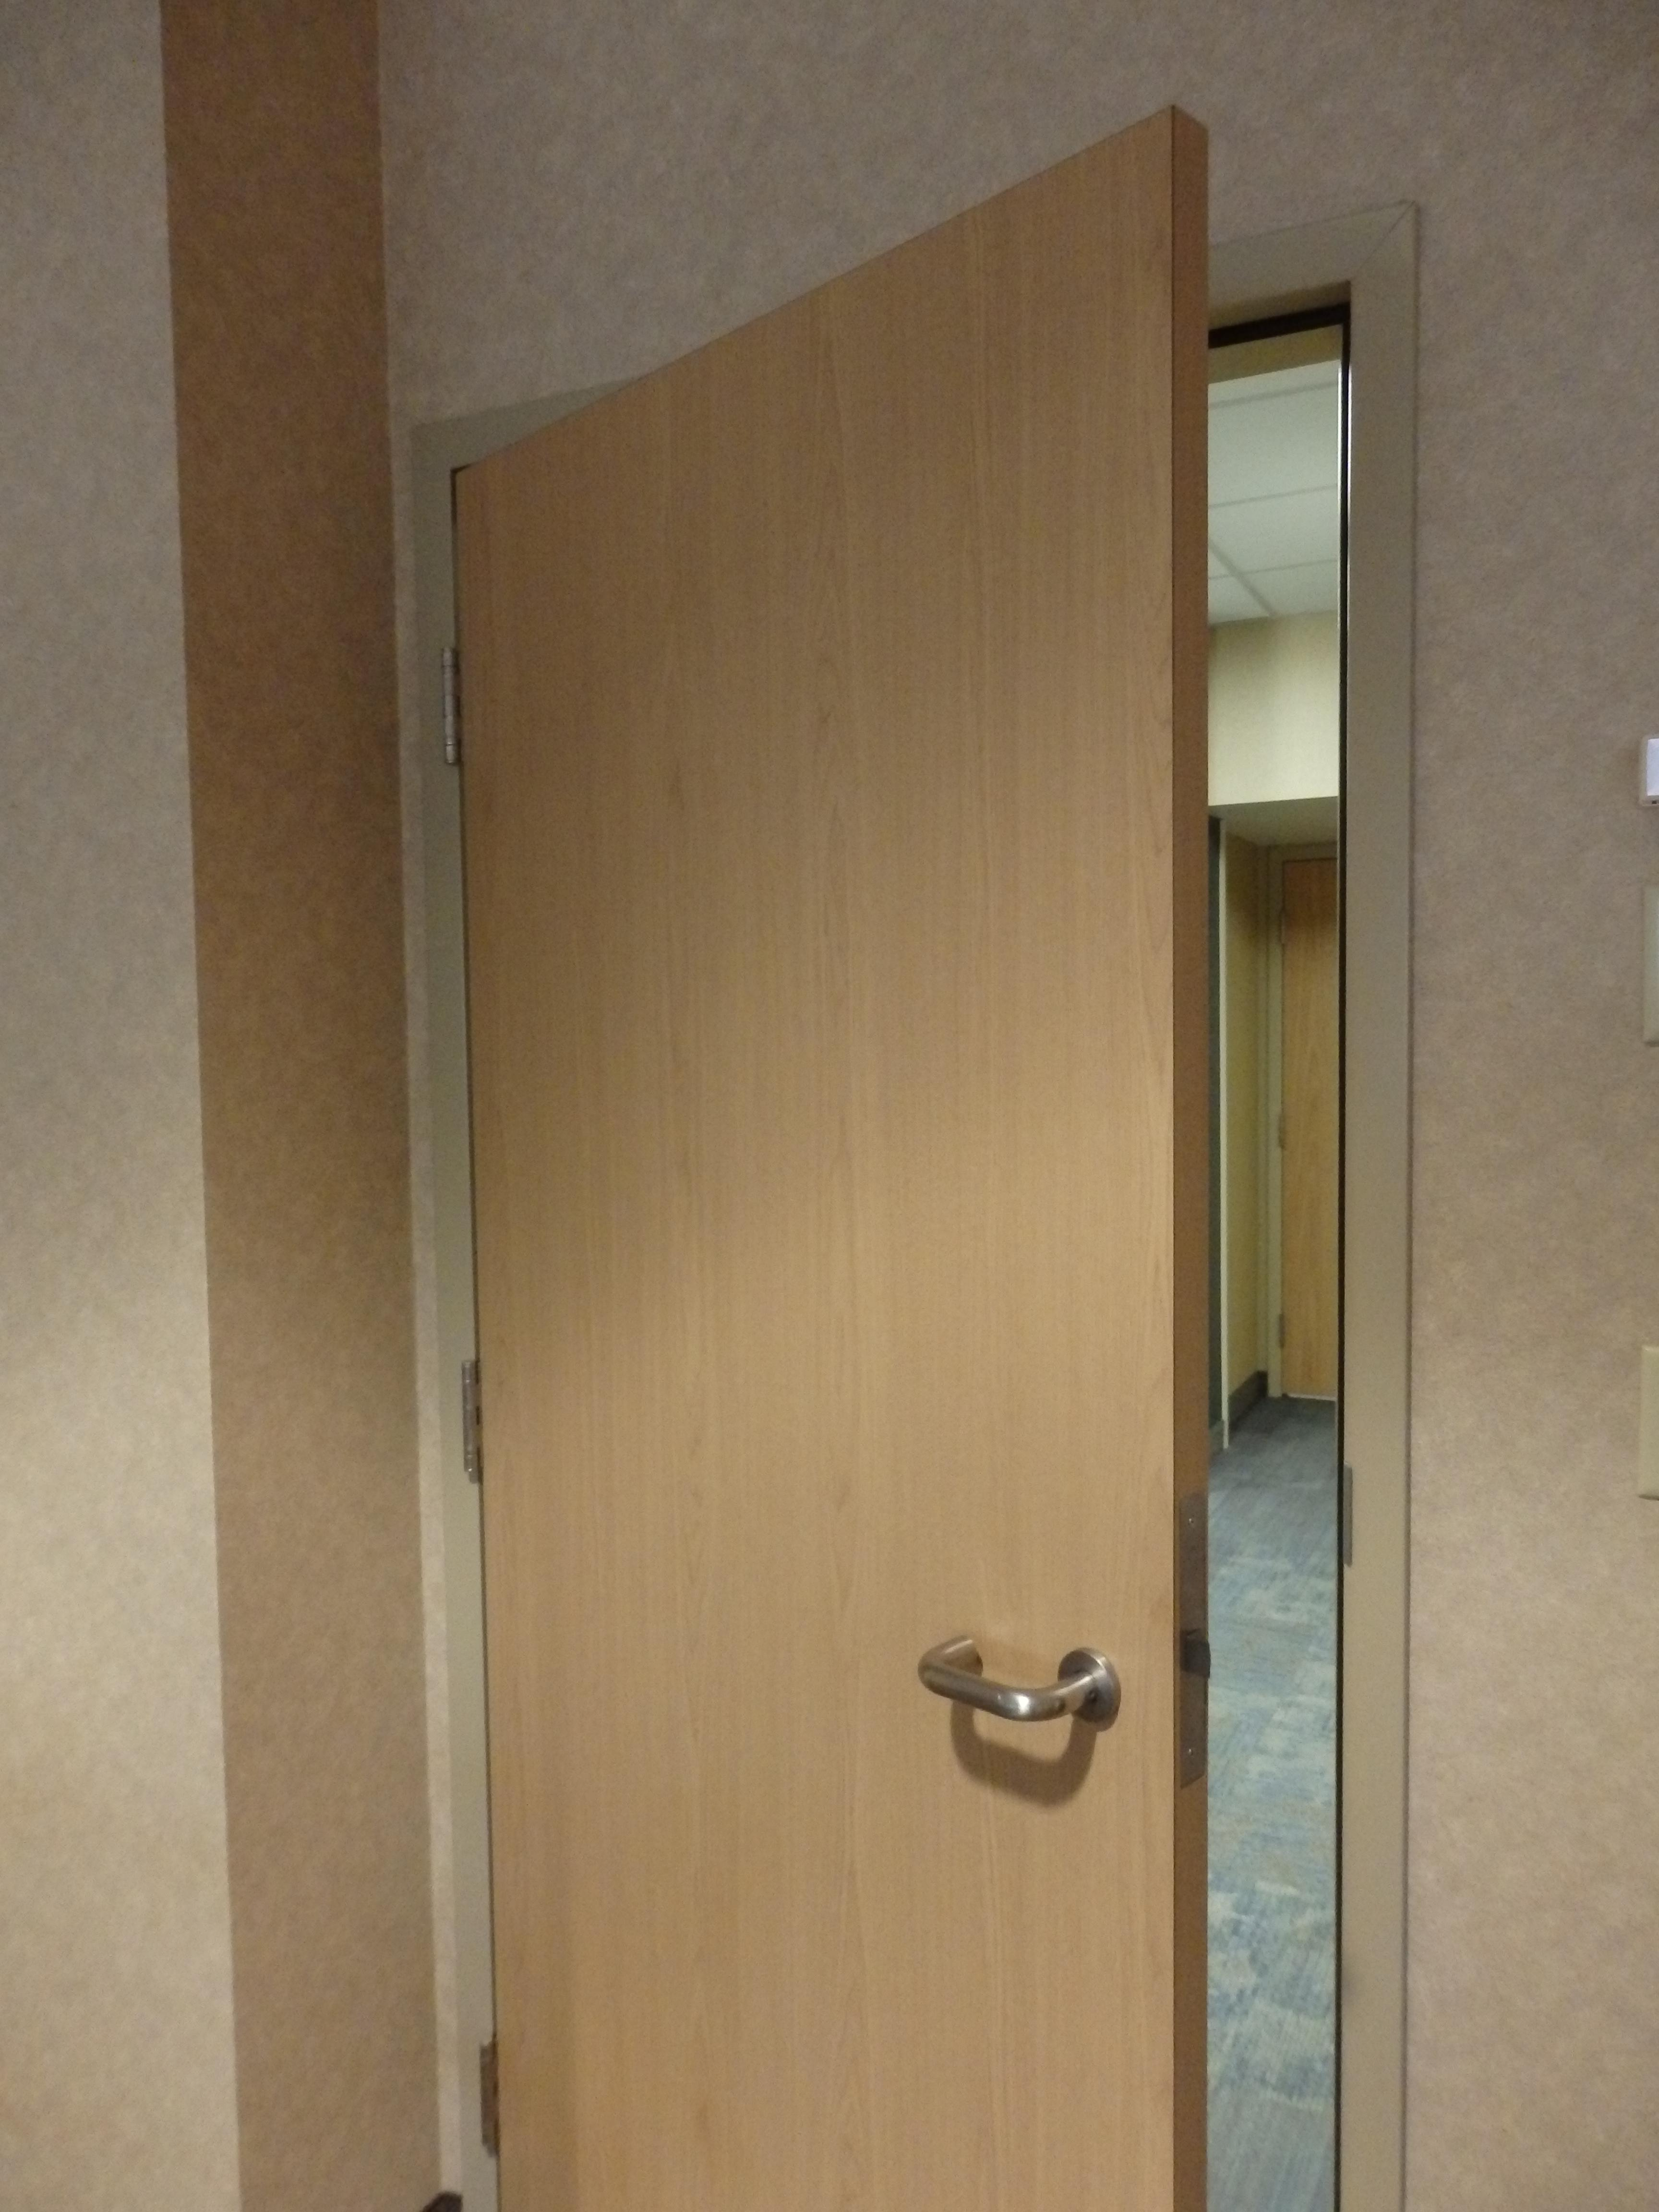door: (418, 106, 1412, 2205)
